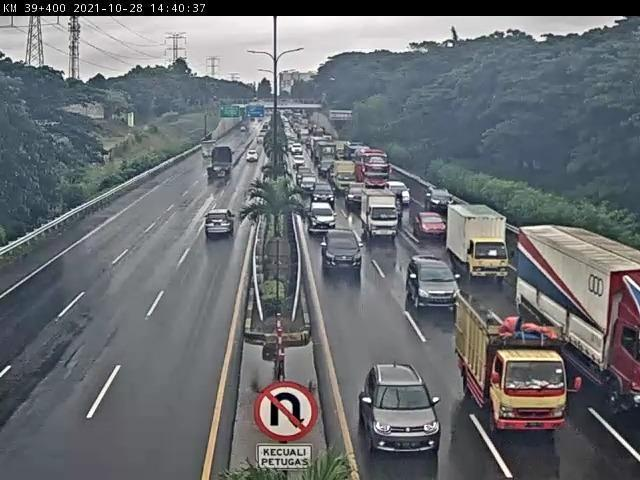car: (360, 362, 439, 452), (408, 258, 459, 309), (322, 231, 361, 271), (415, 208, 448, 242), (207, 205, 236, 239), (309, 199, 337, 228), (386, 180, 412, 211)
truck: (518, 229, 640, 414), (455, 294, 569, 437), (448, 204, 512, 280), (360, 189, 407, 237), (204, 148, 236, 188)
